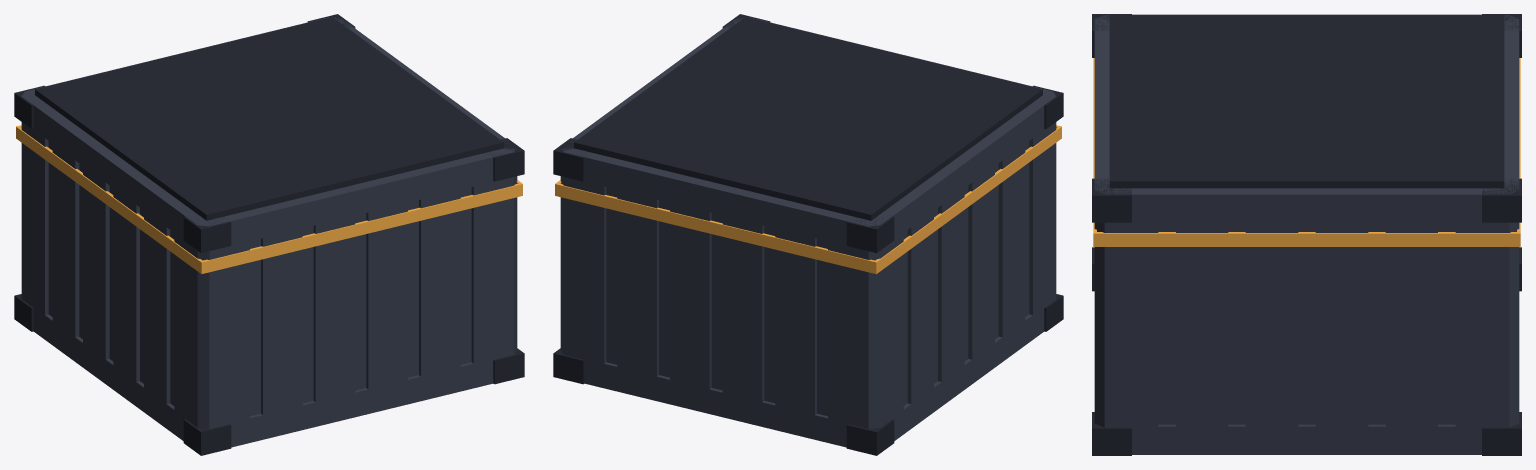
File: crate.glb
The picture shows the model from 3 angles, left to right: view 1: azimuth 30°, elevation 25°; view 2: azimuth 150°, elevation 25°; view 3: azimuth 270°, elevation 25°; orthographic projection. The views are drawn at different scales.
Visible parts, largest first — view 1: Shell, Lid, Stripe, Corner-1-11090, Corner-1-160, Corner1-11090, Corner1-160, Corner-111090, Corner-1160; view 2: Shell, Lid, Stripe, Corner-111090, Corner-1160, Corner111090, Corner1160, Corner-1-11090, Corner-1-160; view 3: Shell, Lid, Stripe, Corner1-11090, Corner111090, Corner1-160, Corner1160.
Boxes of the visible parts, left/top/right/bottom form: Shell: left=21, top=17, right=517, bottom=447; Lid: left=35, top=17, right=503, bottom=220; Stripe: left=16, top=125, right=522, bottom=274; Corner-1-11090: left=183, top=214, right=231, bottom=253; Corner-1-160: left=183, top=419, right=231, bottom=455; Corner1-11090: left=491, top=138, right=524, bottom=181; Corner1-160: left=493, top=348, right=524, bottom=384; Corner-111090: left=14, top=85, right=45, bottom=128; Corner-1160: left=14, top=294, right=33, bottom=331; Shell: left=560, top=17, right=1056, bottom=447; Lid: left=574, top=17, right=1042, bottom=220; Stripe: left=555, top=125, right=1061, bottom=274; Corner-111090: left=846, top=214, right=894, bottom=253; Corner-1160: left=846, top=419, right=894, bottom=455; Corner111090: left=553, top=138, right=587, bottom=181; Corner1160: left=553, top=348, right=584, bottom=384; Corner-1-11090: left=1032, top=85, right=1063, bottom=128; Corner-1-160: left=1044, top=294, right=1063, bottom=331; Shell: left=1094, top=15, right=1519, bottom=454; Lid: left=1109, top=14, right=1504, bottom=188; Stripe: left=1093, top=58, right=1520, bottom=246; Corner1-11090: left=1092, top=178, right=1131, bottom=222; Corner111090: left=1482, top=178, right=1521, bottom=222; Corner1-160: left=1092, top=412, right=1131, bottom=455; Corner1160: left=1482, top=412, right=1521, bottom=455.
Bounding box in the file's own units: 1.72 × 1.18 × 1.72.
